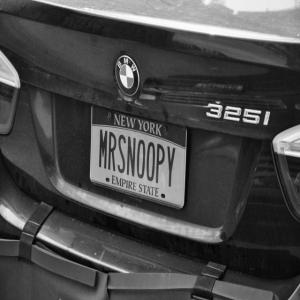Plate: (90, 107, 187, 208)
